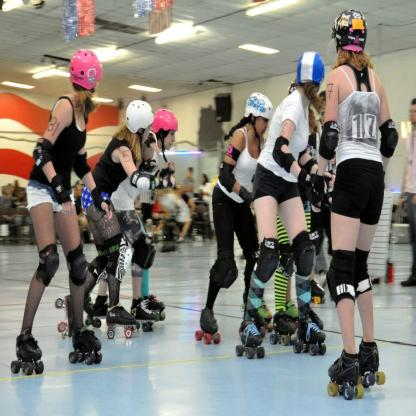Helmet: (333, 3, 370, 55), (63, 46, 102, 95), (239, 94, 273, 136), (127, 96, 156, 136), (297, 53, 331, 87), (152, 103, 176, 147)
